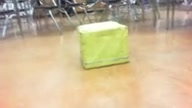cube: (77, 21, 128, 70)
